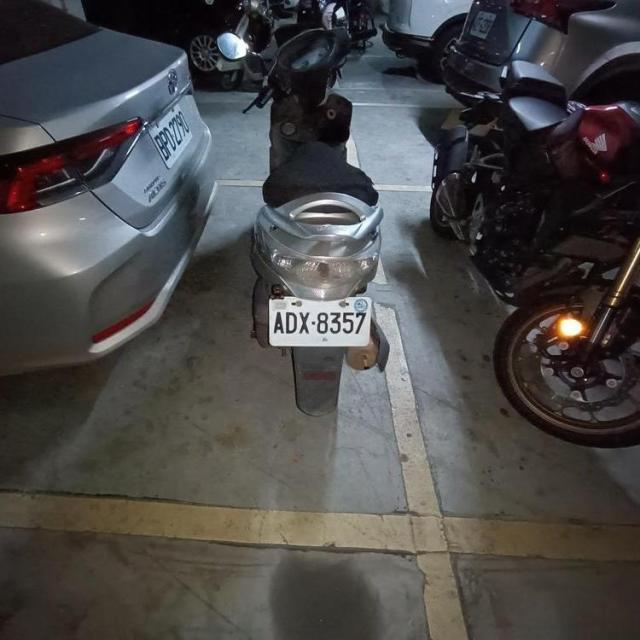W: (265, 292, 373, 348)
